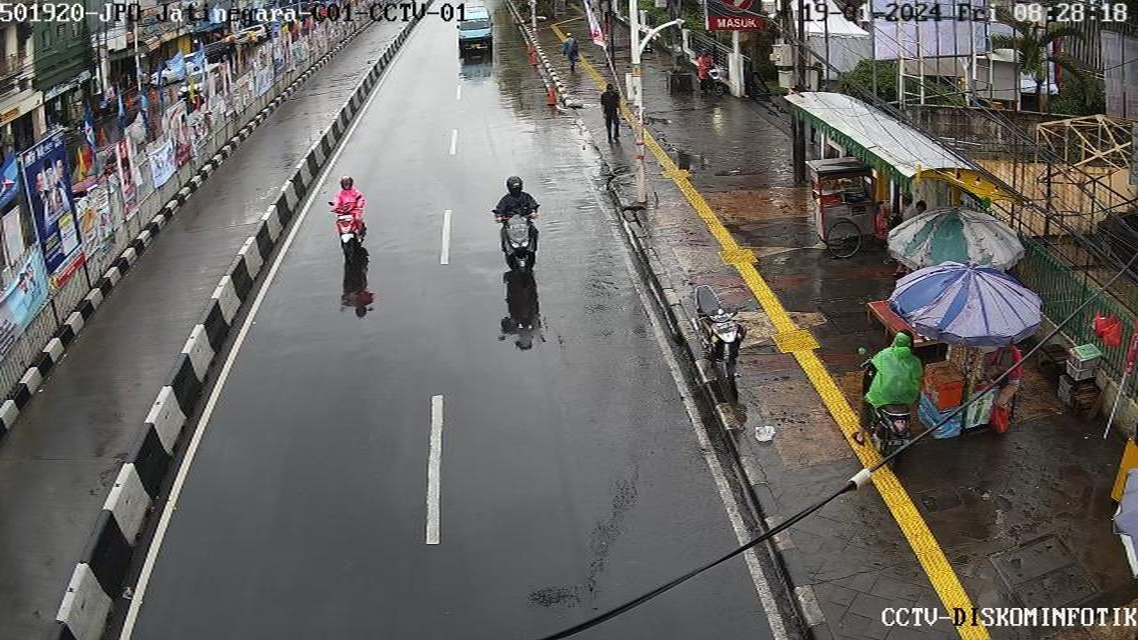Gerobak: (802, 153, 875, 303)
